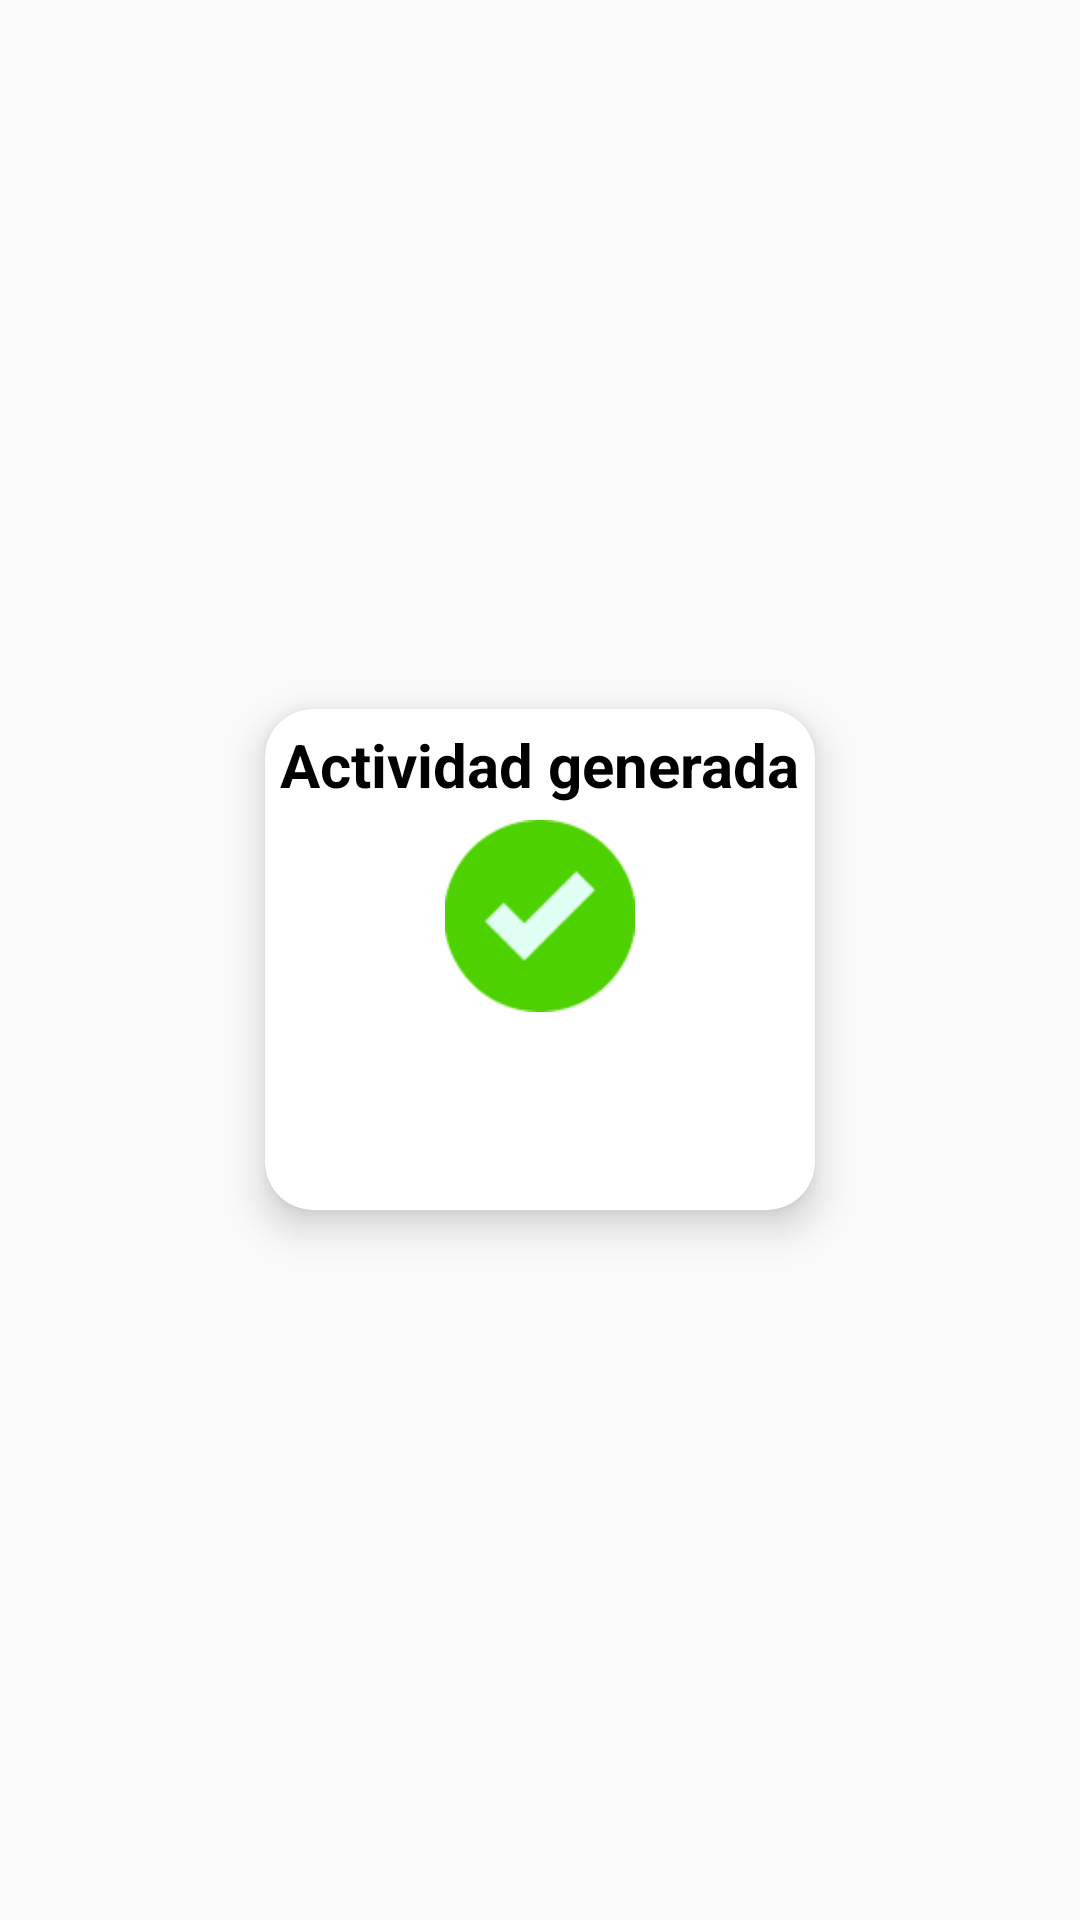

Icons on this 1080*1920 Android screen, each with its box as (x1, y1, x2, y2):
check: (445, 820, 635, 1012)
